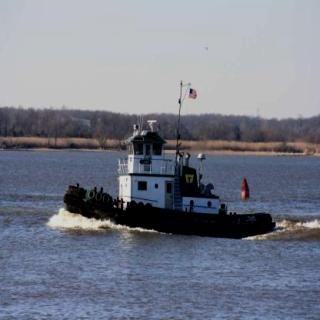Tug Boat: (57, 116, 269, 228)
